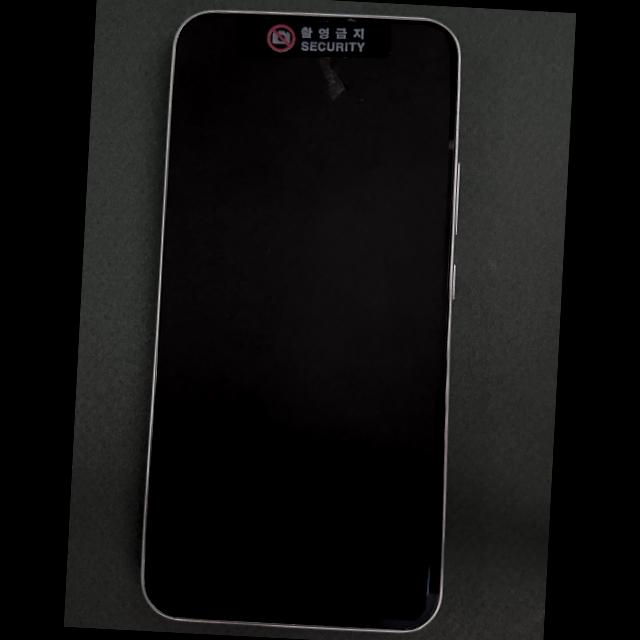phone: (142, 12, 460, 630)
sticker: (257, 21, 389, 59)
